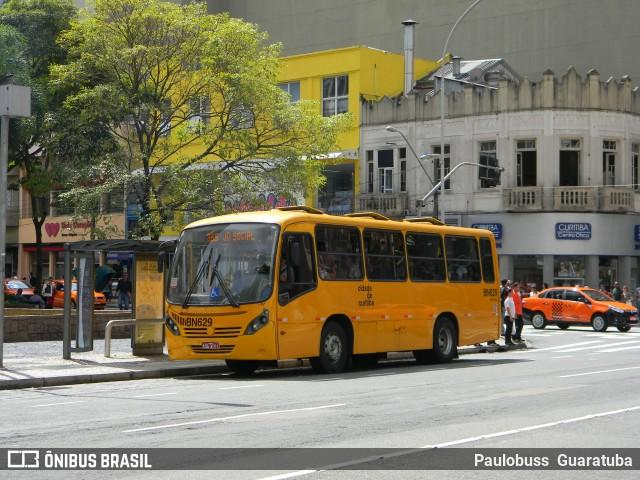JD SOCIAL: (221, 229, 257, 243)
